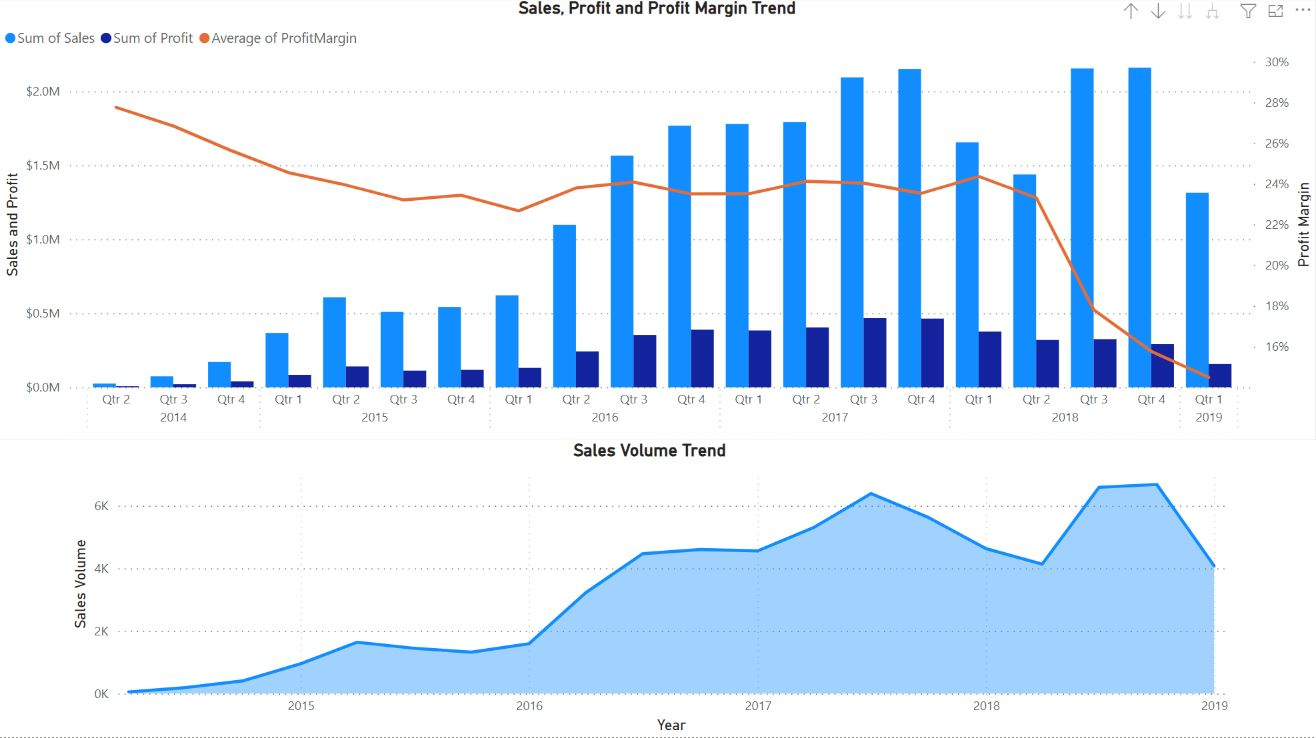

The dashboard page shown, as its layout file describes it:
{"tool":"powerbi","page":{"name":"Sales and Profit Trend","canvas":[1280,720],"ordinal":0},"visuals":[{"type":"lineClusteredColumnComboChart","title":"Sales, Profit and Profit Margin Trend","fields":{"Category":["orders_dim.OrderDate.Variation.Date Hierarchy.Year","orders_dim.OrderDate.Variation.Date Hierarchy.Quarter"],"Y":["Sum(orderdetails_fact.Sales)","Sum(orderdetails_fact.Profit)"],"Y2":["Avg(orderdetails_fact.ProfitMargin)"]},"box":[0,0,1279.7,430.4],"z":0},{"type":"areaChart","title":"Sales Volume Trend","fields":{"Category":["orders_dim.OrderDate.Variation.Date Hierarchy.Year","orders_dim.OrderDate.Variation.Date Hierarchy.Quarter"],"Y":["Sum(orderdetails_fact.Quantity)"]},"box":[66.1,430.4,1133,289.6],"z":1000}]}

Visuals, with their boxes in screenshot pixels (x1, y1, x2, y2), scaled from the page's 1280x720 canvas onto the 1316x738 screenshot:
"Sales, Profit and Profit Margin Trend" lineClusteredColumnComboChart: <bbox>0, 0, 1315, 441</bbox>
"Sales Volume Trend" areaChart: <bbox>68, 441, 1233, 737</bbox>
